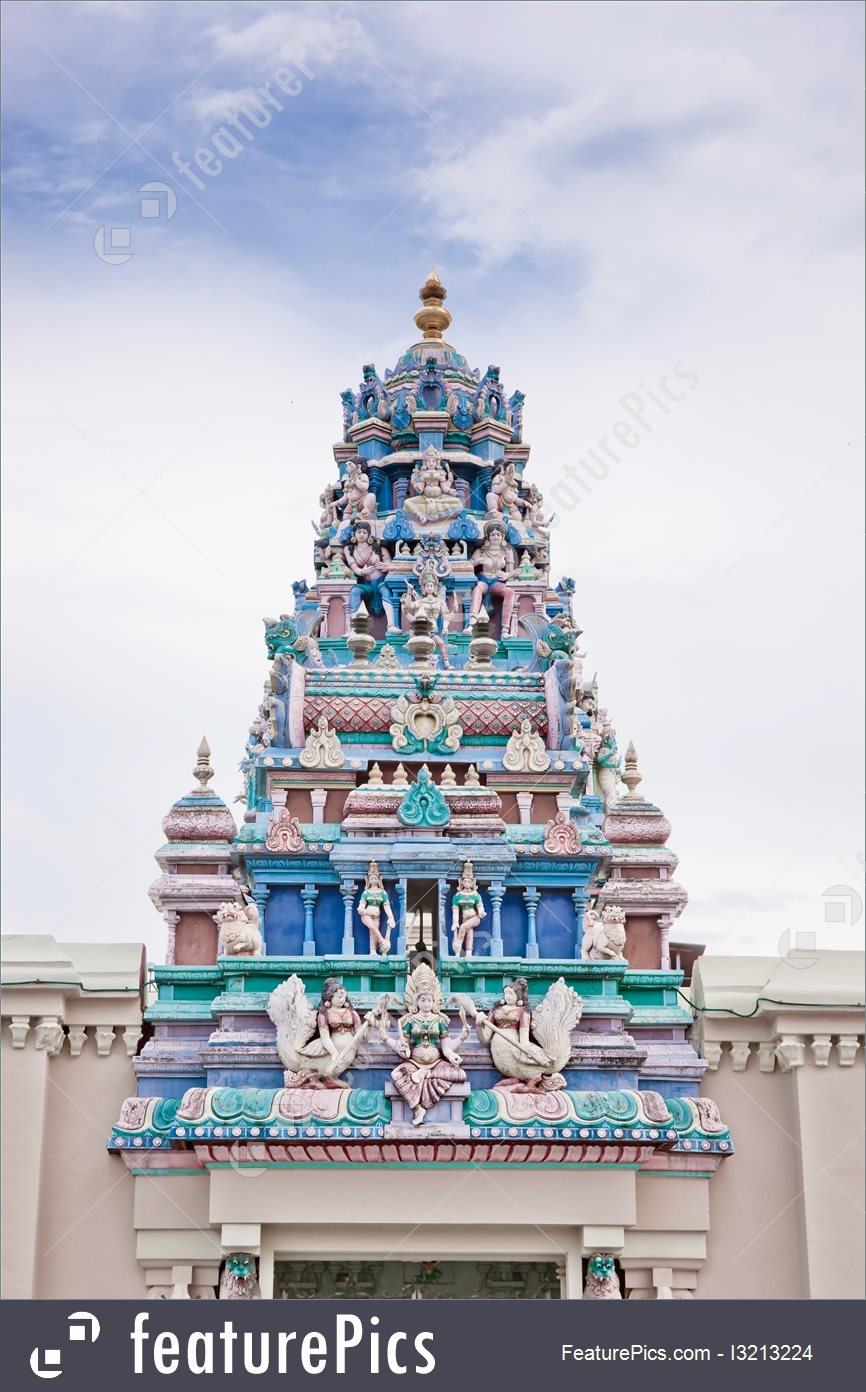Hindu Temple: (179, 247, 697, 1157)
